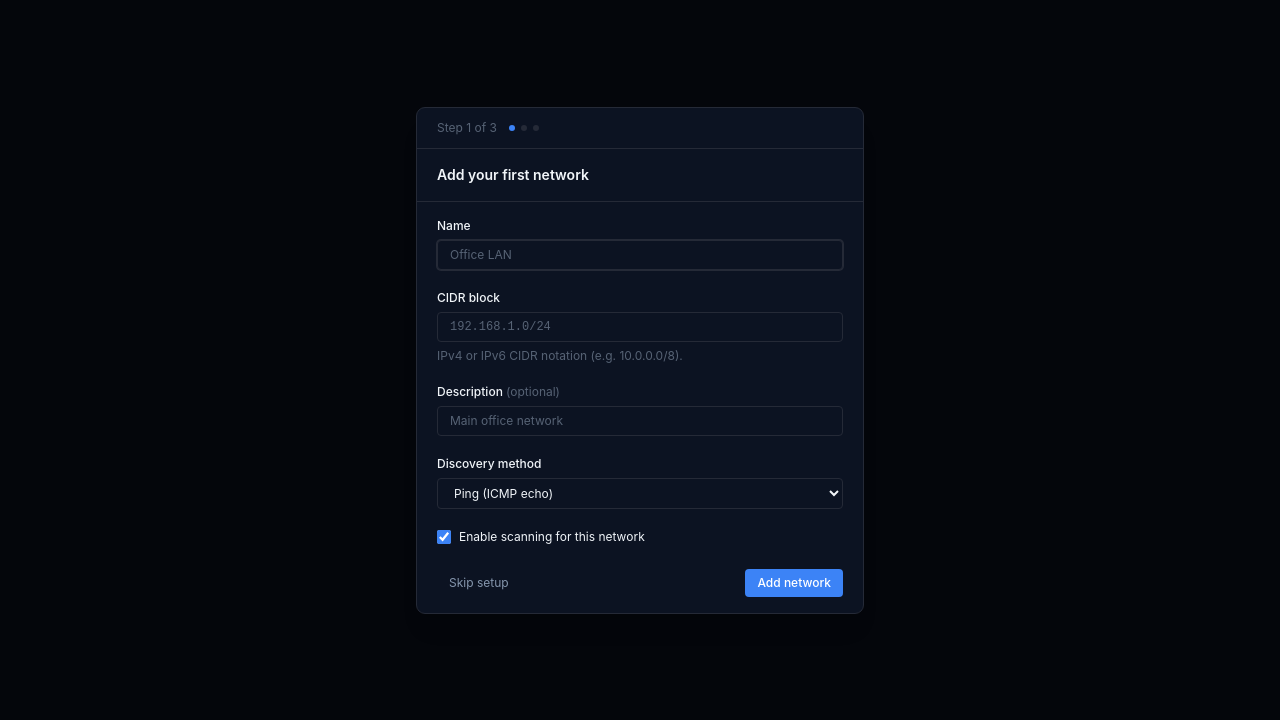
OnboardingWizard › advances to Step 2 after successfully creating a network
# Fill in required fields
Type "My Network" into the field with placeholder "Office LAN".
click(640, 254); type("My Network")  # box [437,240,843,270]
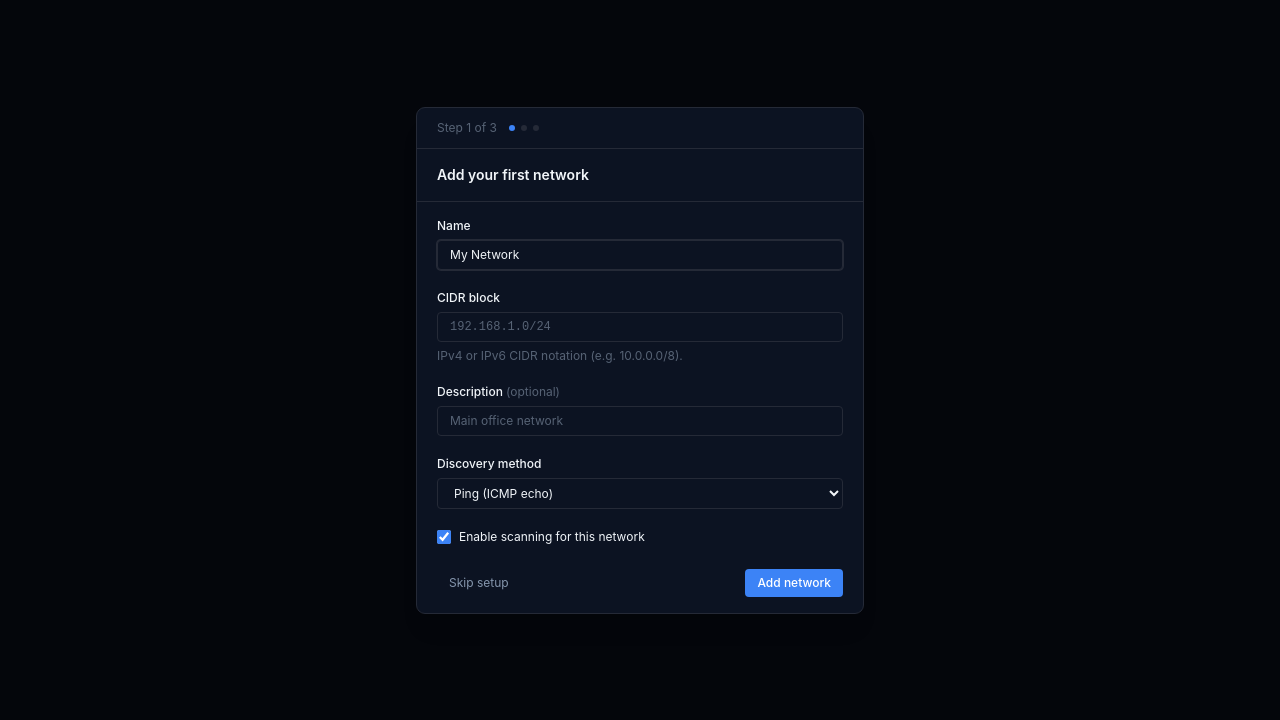
Type "10.0.0.0/8" into the field with placeholder "192.168.1.0/24".
click(640, 326); type("10.0.0.0/8")  # box [437,312,843,342]
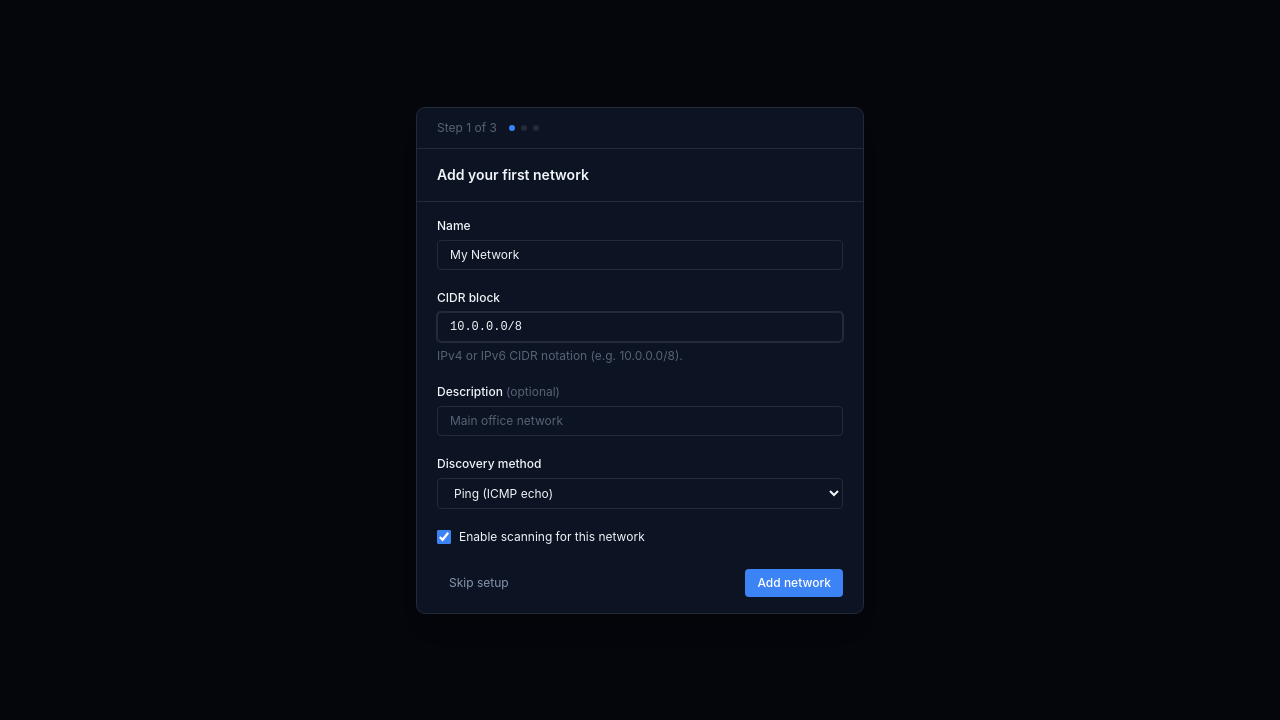
Click the button "Add network".
click(794, 582)  # box [746,568,843,596]
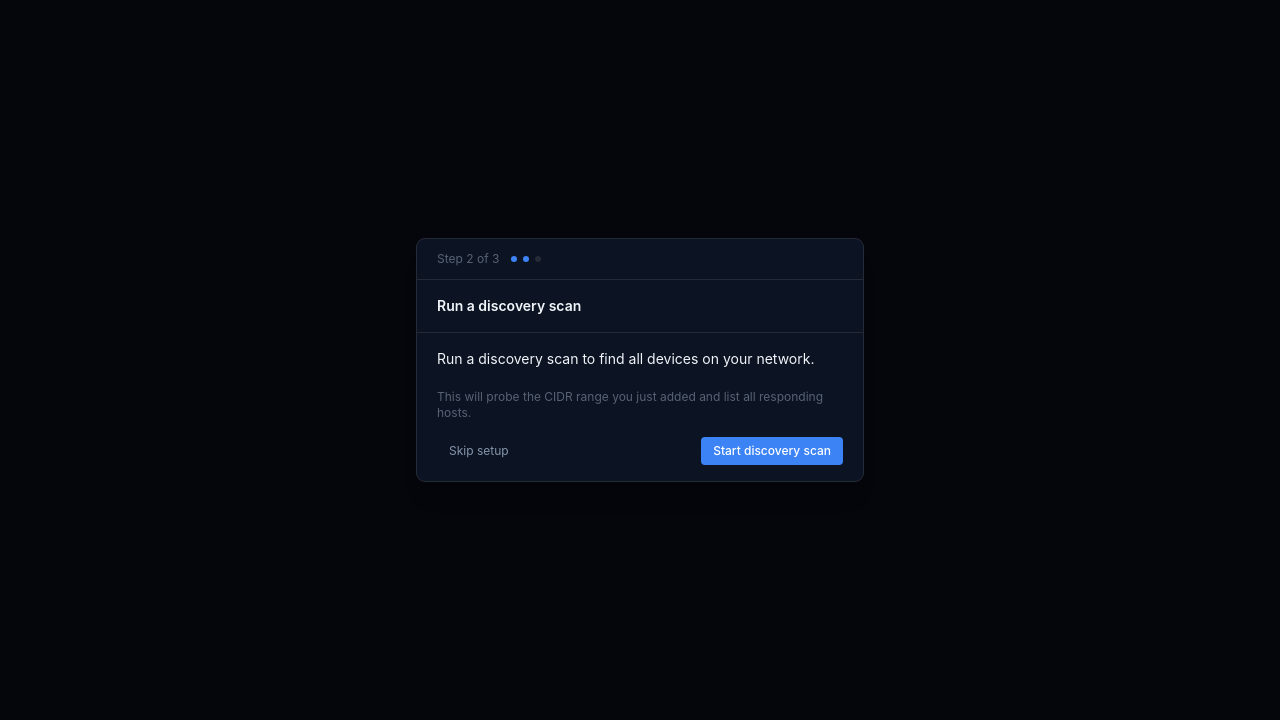
Check: the text "Step 2 of 3" is shown, box [437,251,499,267]
